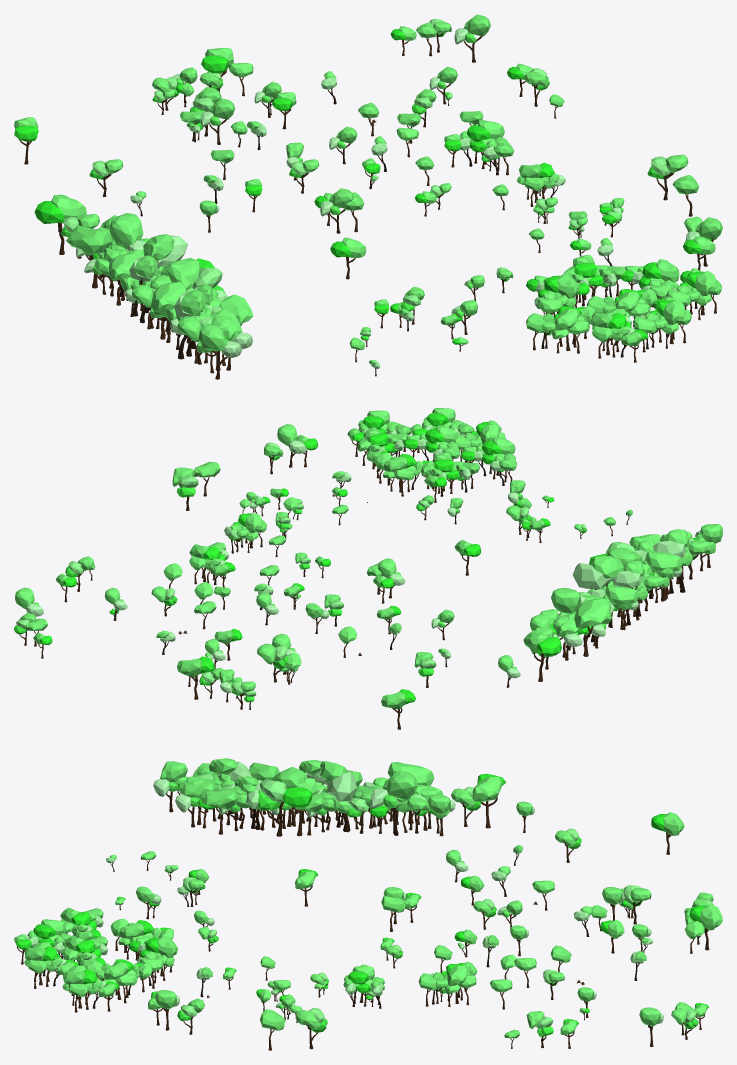
Rendered from pohon smua.fbx.
3 renders of one model, top to bottom at view 1: azimuth 30°, elevation 25°; view 2: azimuth 150°, elevation 25°; view 3: azimuth 270°, elevation 25°, orthographic. The views are drawn at different scales.
Visible parts, largest first — view 1: pohon 1.021, pohon 3.029, pohon 5.013, pohon 2.016, pohon 4.022, pohon 2.031, pohon 4.032, pohon 5.021, pohon 1.012, pohon 2.009, pohon 2.001, pohon 3.007 (+13 smaller); view 2: pohon 5.013, pohon 4.022, pohon 3.029, pohon 5.021, pohon 5.017, pohon 4.032, pohon 1.012, pohon 2.016, pohon 3.007, pohon 1.004, pohon 4.024, pohon 2.012 (+2 smaller); view 3: pohon 1.021, pohon 2.016, pohon 5.013, pohon 3.029, pohon 3.025, pohon 2.031, pohon 3.007, pohon 4.030, pohon 1.012, pohon 5.021, pohon 3.011, pohon 4.022 (+9 smaller).
Part boxes in pixels (box(x1,y1,x2,y2)): pohon 1.021: box(166, 257, 225, 293); pohon 3.029: box(34, 195, 86, 254); pohon 5.013: box(143, 234, 187, 310); pohon 2.016: box(109, 213, 148, 250); pohon 4.022: box(66, 225, 110, 288); pohon 2.031: box(198, 324, 241, 379); pohon 4.032: box(152, 282, 186, 339); pohon 5.021: box(174, 289, 206, 359); pohon 1.012: box(647, 154, 688, 200); pohon 2.009: box(454, 14, 490, 62); pohon 2.001: box(200, 98, 235, 144); pohon 3.007: box(201, 48, 233, 91); pohon 5.013: box(572, 555, 623, 589); pohon 4.022: box(574, 598, 610, 656); pohon 3.029: box(523, 630, 561, 681); pohon 5.021: box(652, 529, 689, 592); pohon 5.017: box(612, 560, 644, 616); pohon 4.032: box(645, 550, 682, 600); pohon 1.012: box(172, 467, 198, 510); pohon 2.016: box(551, 588, 585, 613); pohon 3.007: box(177, 656, 214, 699); pohon 1.004: box(257, 643, 288, 682); pohon 4.024: box(605, 584, 639, 629); pohon 2.012: box(277, 424, 306, 467); pohon 1.021: box(257, 766, 305, 836); pohon 2.016: box(370, 770, 417, 833); pohon 5.013: box(320, 761, 356, 832); pohon 3.029: box(472, 773, 506, 828); pohon 3.025: box(282, 778, 317, 836); pohon 2.031: box(153, 761, 187, 812); pohon 3.007: box(689, 904, 722, 950); pohon 4.030: box(200, 788, 238, 834); pohon 1.012: box(295, 1007, 327, 1049); pohon 5.021: box(209, 758, 251, 813); pohon 3.011: box(651, 812, 684, 854); pohon 4.022: box(387, 762, 434, 823).
Size of the model in its own units: 30036 by 3908 by 36199.
